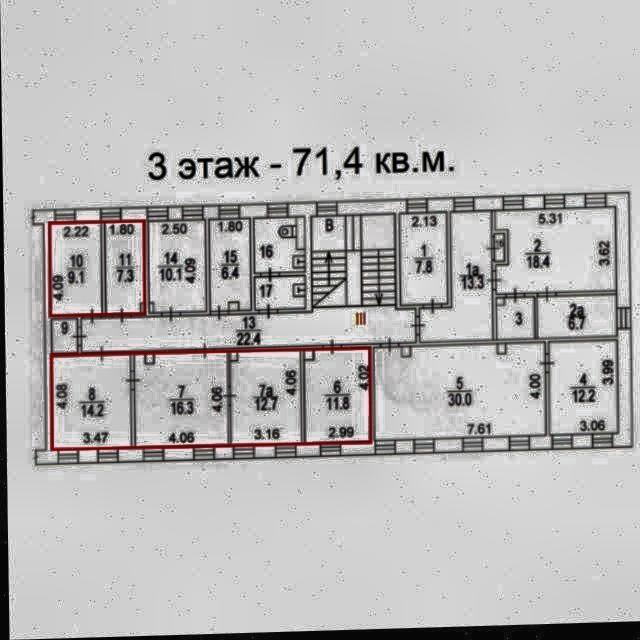room: (79, 216, 414, 353), (372, 345, 545, 442), (494, 211, 616, 296), (417, 213, 492, 345), (133, 353, 227, 446), (52, 355, 129, 450), (229, 353, 300, 446), (549, 346, 617, 438), (303, 351, 369, 445), (148, 221, 205, 313), (49, 222, 100, 314), (400, 215, 446, 307), (209, 220, 249, 311), (536, 298, 616, 342), (105, 223, 143, 314), (254, 218, 303, 274), (496, 300, 533, 342), (51, 321, 76, 353), (494, 236, 503, 264)
